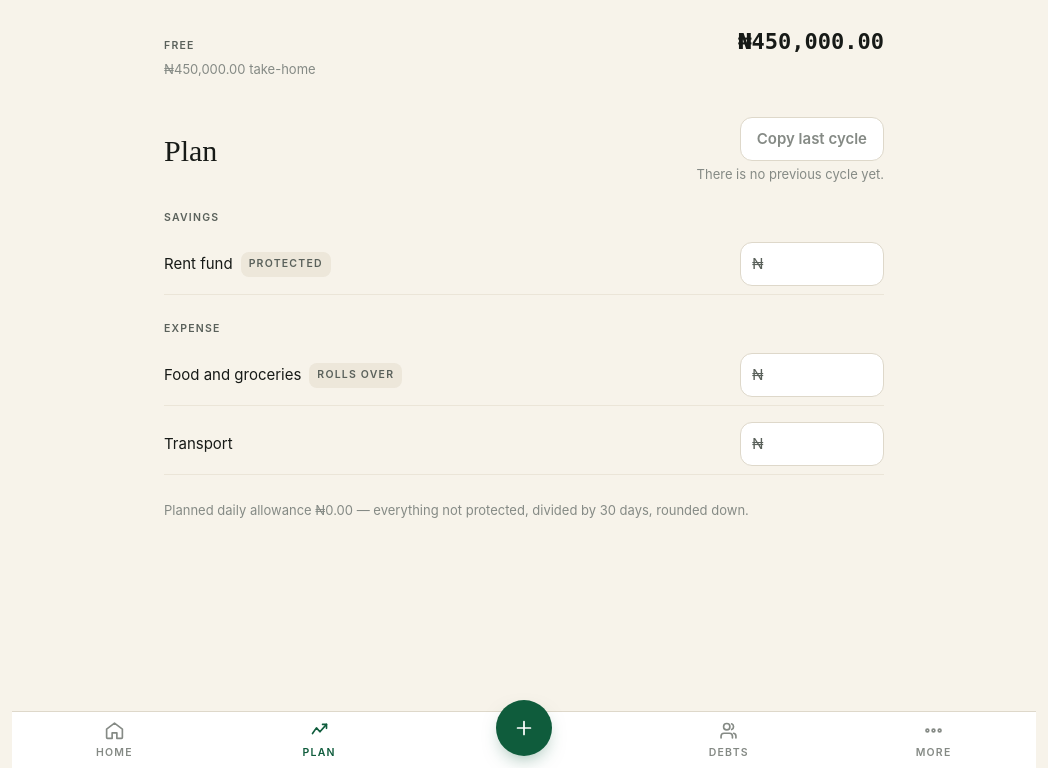
a rejected row › offers Try again on the row that failed
This screenshot has width=1048, height=768.
Check: the heading "Plan" is shown, box [164,132,217,168]
Click the field named "Food and groceries amount" in the row of "Rolls over" at (812, 375), box [740,353,884,397]
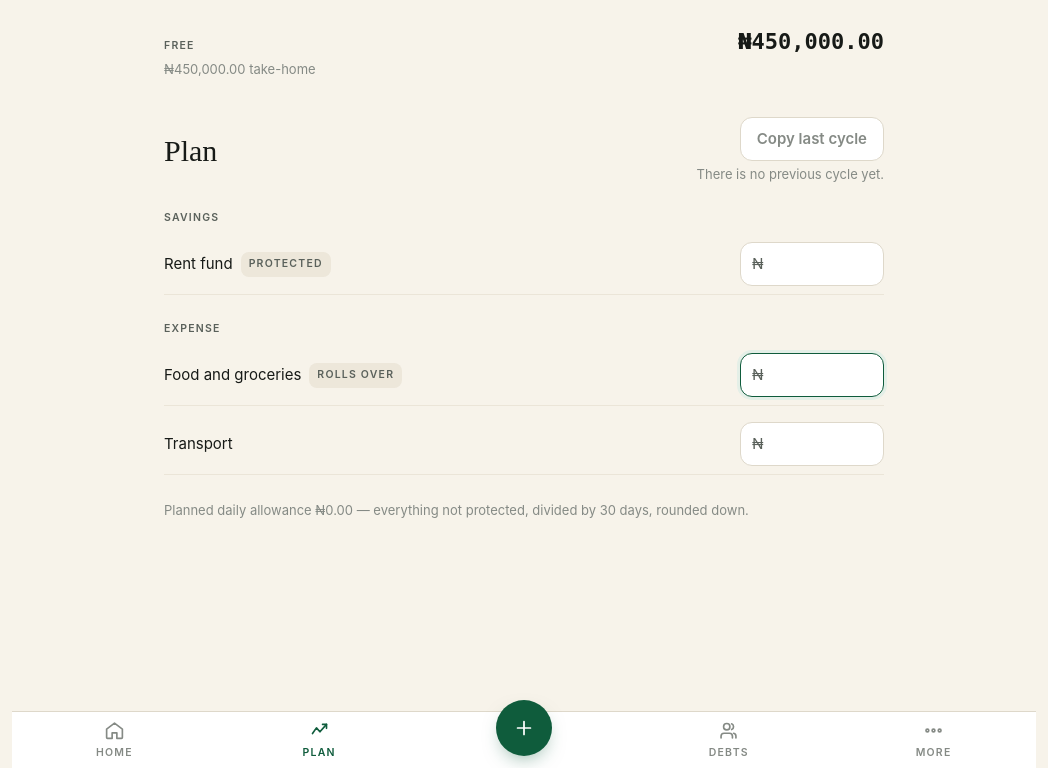
Type keys "90000"
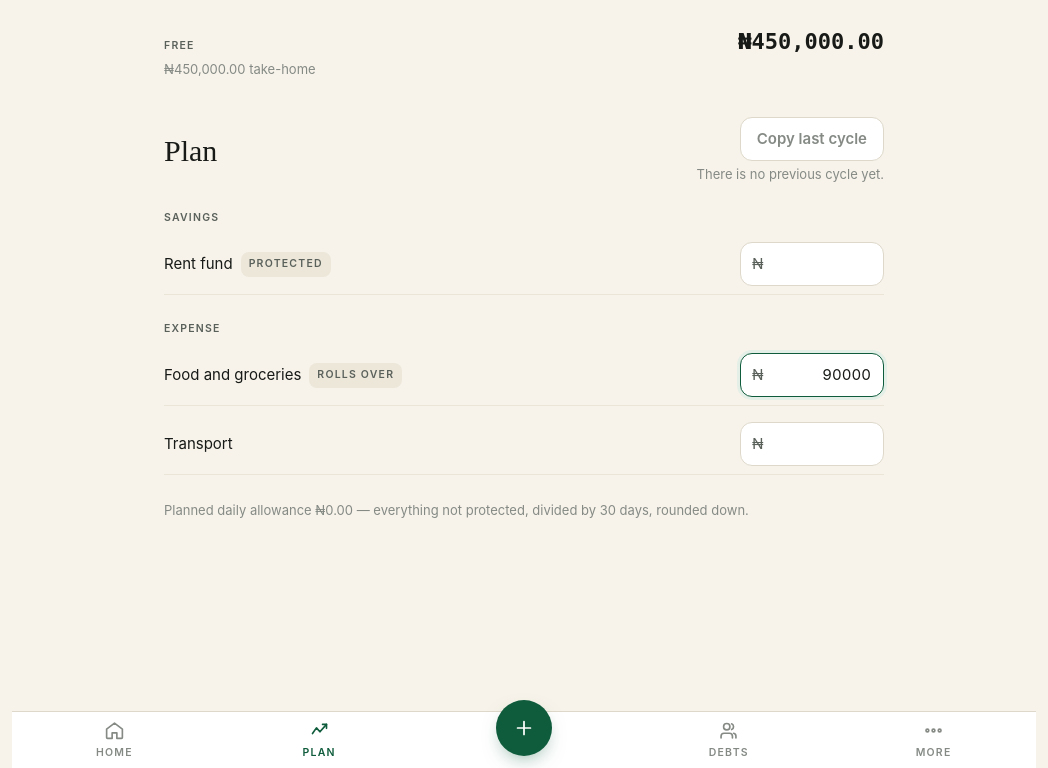
Press Tab
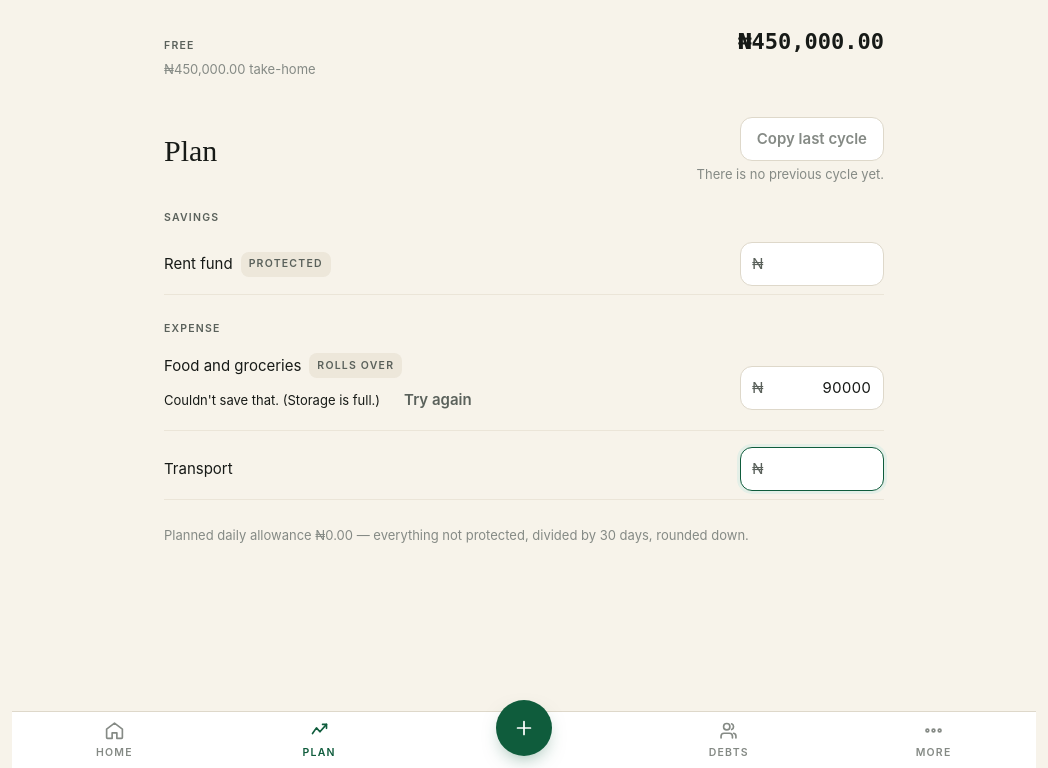
Check: the button "Try again" is shown, box [388,378,488,422]
